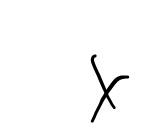mult: (90, 54, 130, 123)
